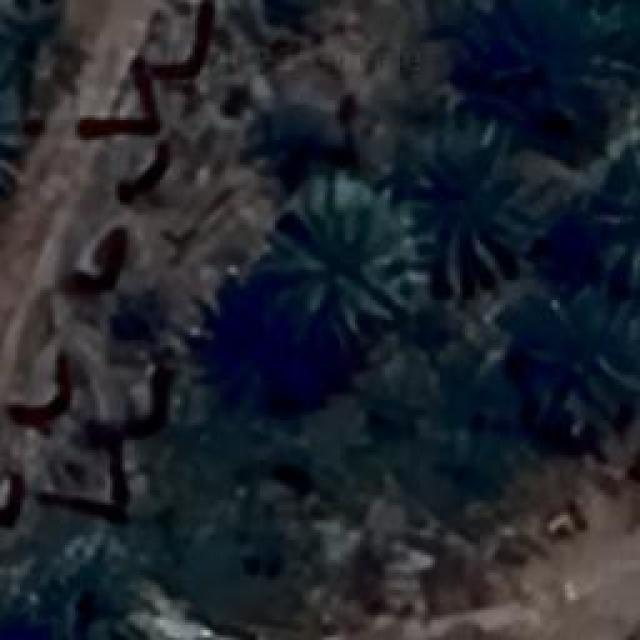PalmTree: (16, 76, 544, 138), (275, 188, 410, 338), (400, 134, 540, 268), (517, 292, 640, 417), (572, 165, 640, 303), (0, 576, 128, 640), (0, 0, 72, 81), (230, 0, 336, 45)
